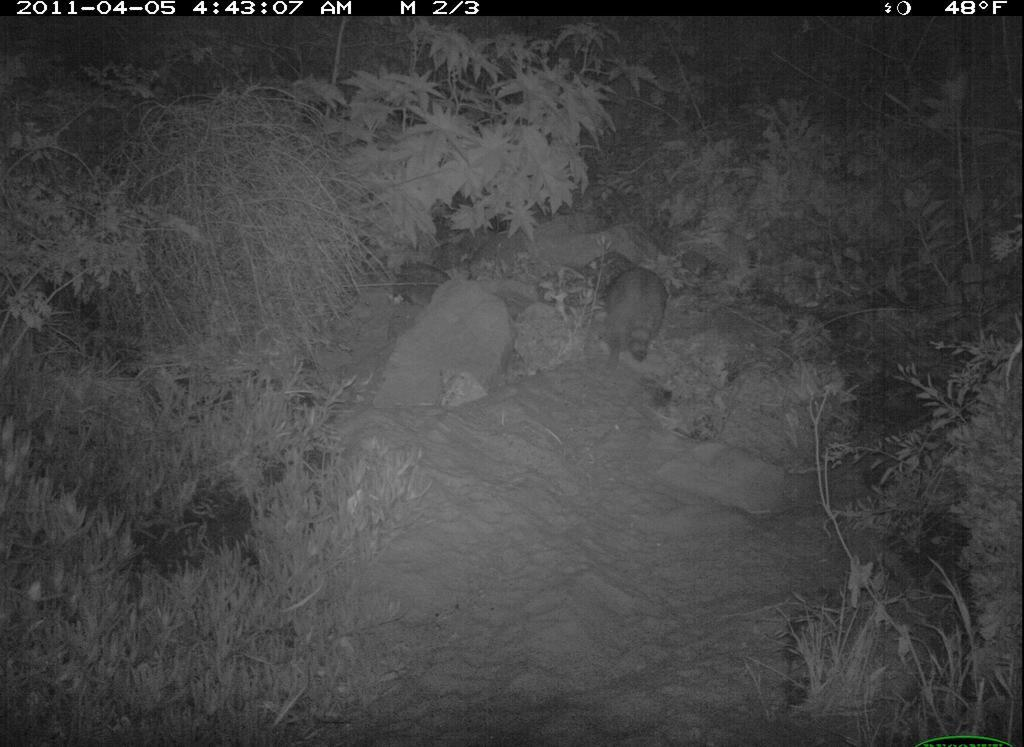raccoon: (594, 263, 680, 370)
